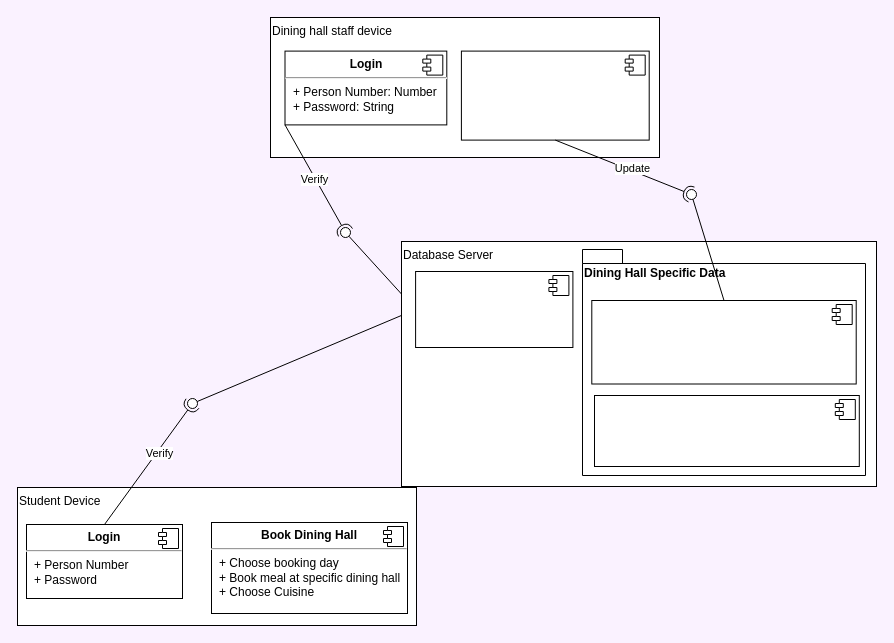
Some shapes in this 894 by 643 pixel diagram are drawn without their labels. The shapes that lost their labels are listed below. From the top down, each one's centre as x and y in pixels, then its label:
At point 554,95: "See Meal Info + Date + Meal type + Total Number of booked meals".
At point 494,309: "Verify Login + Person Number + Password".
At point 723,342: "Booking Info + Date + Cuisine + Meal time".
At point 726,430: "Staff Info + Dining hall name Name + Staff numbers".
